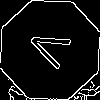V: (25, 25, 81, 74)
